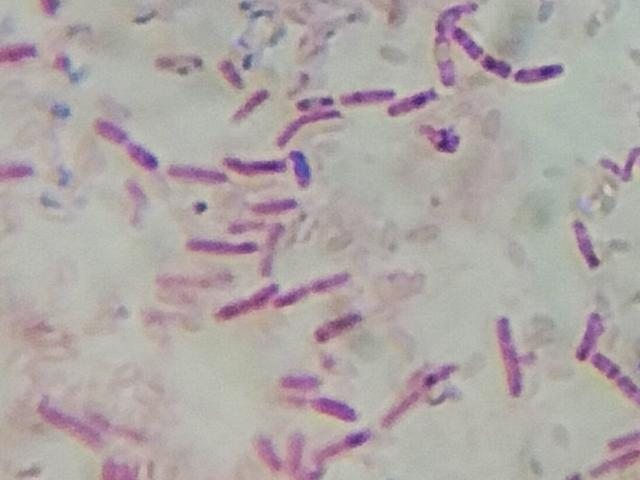E. coli: (379, 359, 463, 422), (95, 122, 161, 171), (42, 395, 103, 448), (493, 312, 525, 394), (285, 270, 357, 306), (217, 281, 275, 321), (569, 212, 607, 273), (309, 309, 370, 347), (274, 110, 345, 142), (593, 351, 638, 399), (178, 230, 250, 260), (427, 29, 459, 85), (317, 428, 373, 460), (582, 452, 639, 480), (232, 87, 274, 125), (314, 393, 362, 426), (517, 60, 569, 90), (286, 420, 313, 476), (282, 366, 328, 398), (227, 150, 288, 174), (252, 190, 304, 218), (175, 160, 232, 185), (250, 430, 284, 471), (389, 90, 439, 116), (578, 308, 601, 357), (339, 84, 398, 103), (0, 39, 40, 66), (2, 155, 38, 185), (292, 149, 320, 187), (289, 89, 334, 109), (96, 458, 136, 480), (219, 61, 245, 90), (606, 430, 640, 450)
